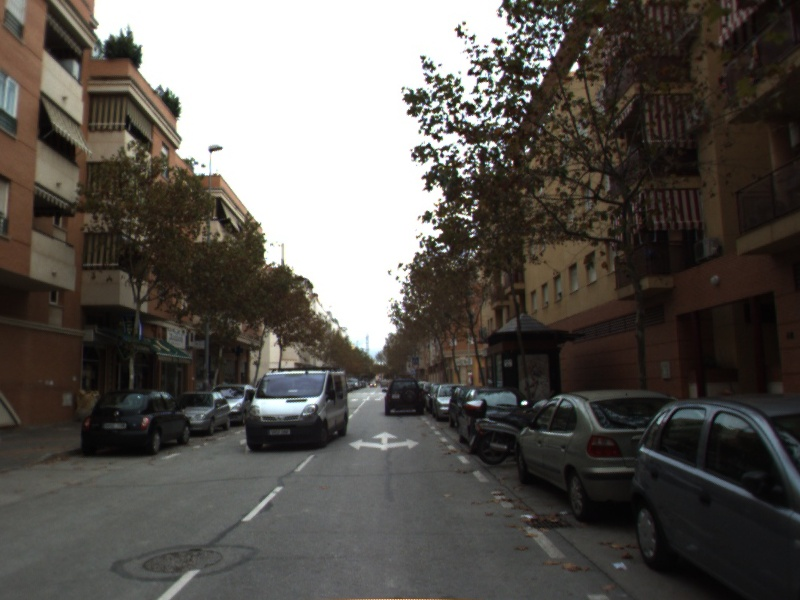STRAIGHT_LEFT_RIGHT: (347, 429, 422, 453)
